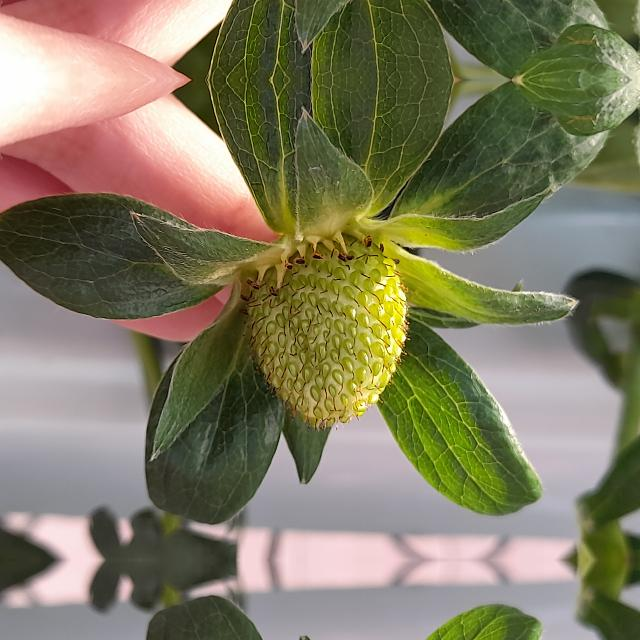Health_25: (243, 238, 409, 432)
